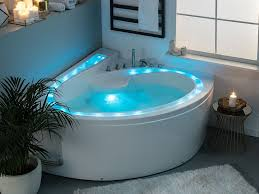bathub: (31, 45, 221, 182)
